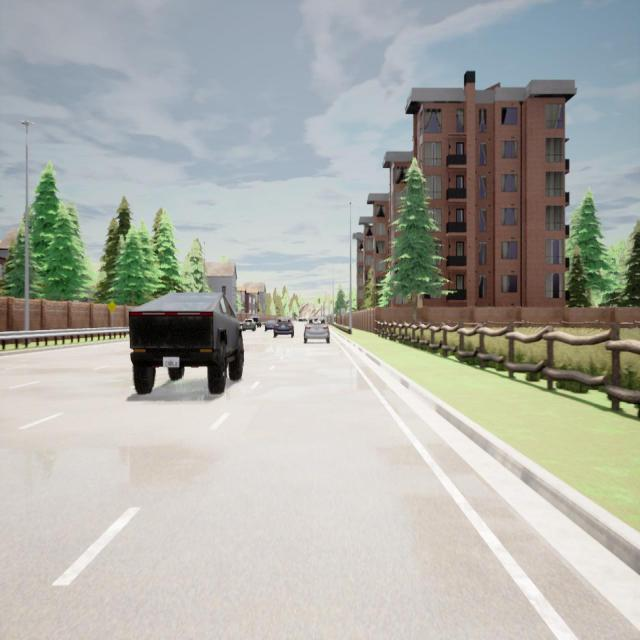Traffic_Signs: (106, 300, 117, 314), (341, 308, 345, 314)
Vehicle: (128, 292, 244, 394), (304, 316, 329, 343), (274, 316, 294, 338), (242, 319, 255, 332), (250, 316, 262, 327), (265, 320, 275, 331), (298, 317, 306, 322)
